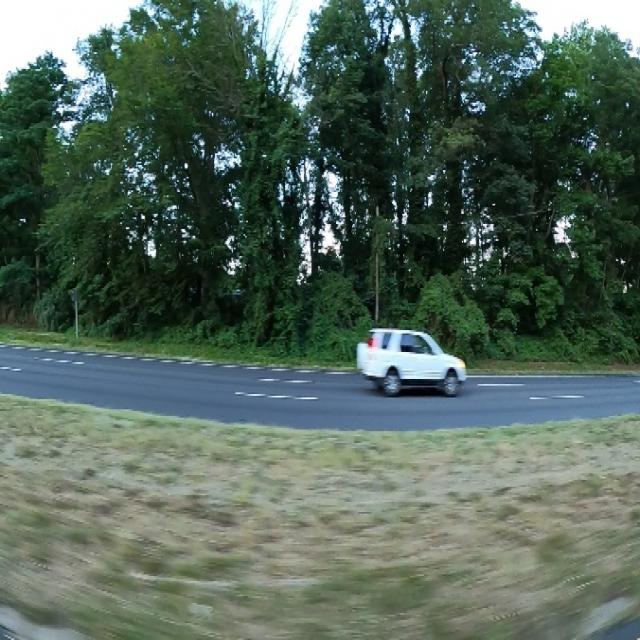cars: (351, 325, 472, 400)
